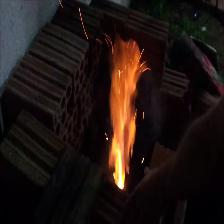fire: (103, 35, 149, 196)
